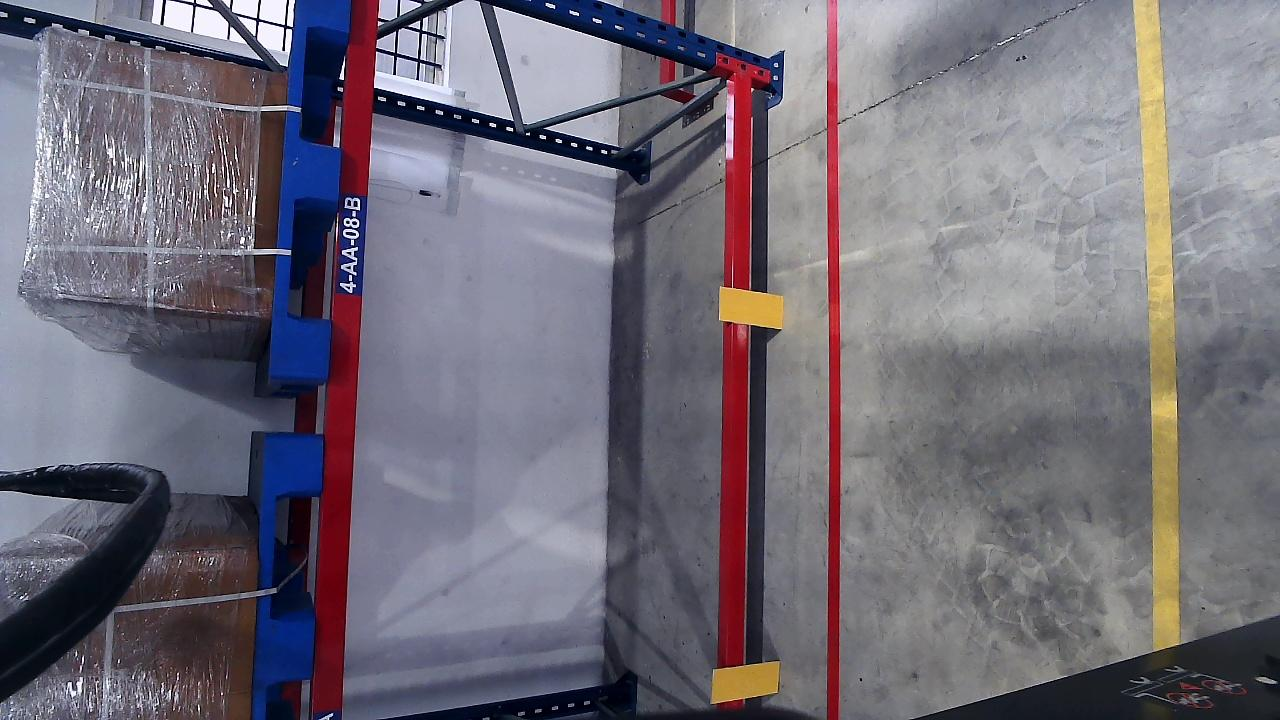h_rack: (310, 0, 381, 720), (725, 75, 758, 669)
orange_strip: (711, 660, 780, 702), (719, 287, 784, 329)
red_line: (253, 432, 326, 720), (822, 0, 844, 720)
small_pallet: (272, 0, 350, 383)
yellow_line: (1135, 0, 1181, 652)
